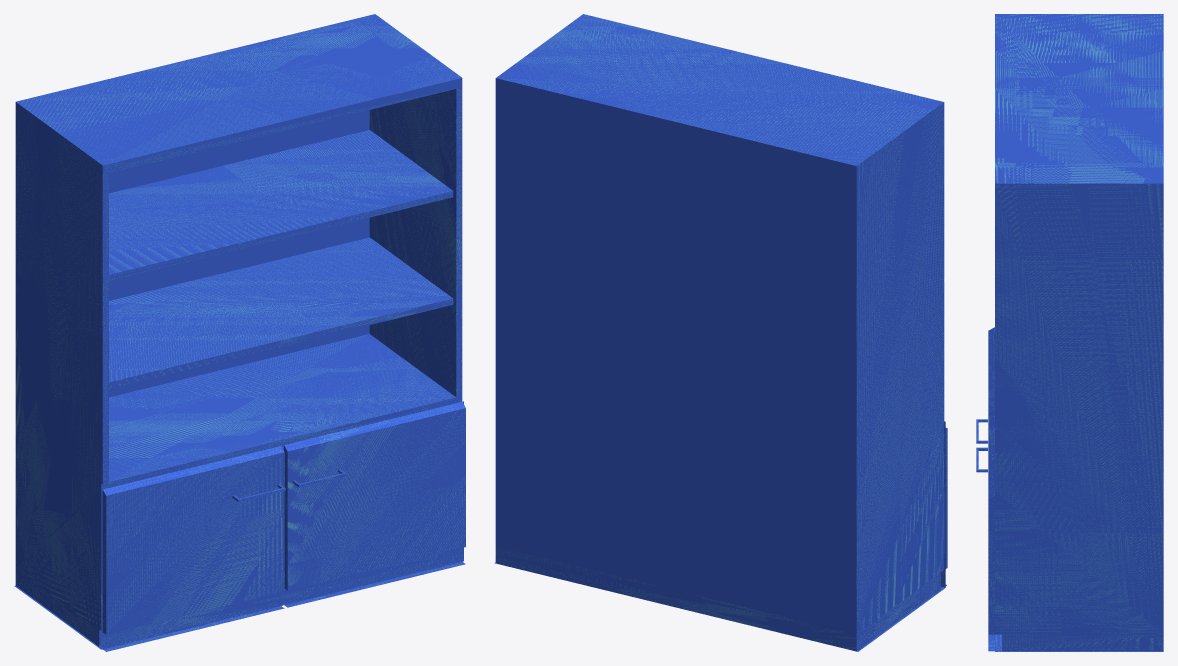
The model's file is biblioteca.fbx.
3 renders of one model, left to right at view 1: azimuth 30°, elevation 25°; view 2: azimuth 150°, elevation 25°; view 3: azimuth 270°, elevation 25°, orthographic. The views are drawn at different scales.
Parts seen in each view (by area): view 1: Body, Rafturi.001; view 2: Body; view 3: Body, Manere.
Boxes of the visible parts, x1,y1,x2,y2 form: Body: [14, 14, 465, 651]; Rafturi.001: [109, 130, 453, 388]; Body: [494, 14, 947, 651]; Body: [988, 14, 1163, 651]; Manere: [976, 419, 987, 472].
Bounding box in the file's own units: 120 × 153 × 55.6.
